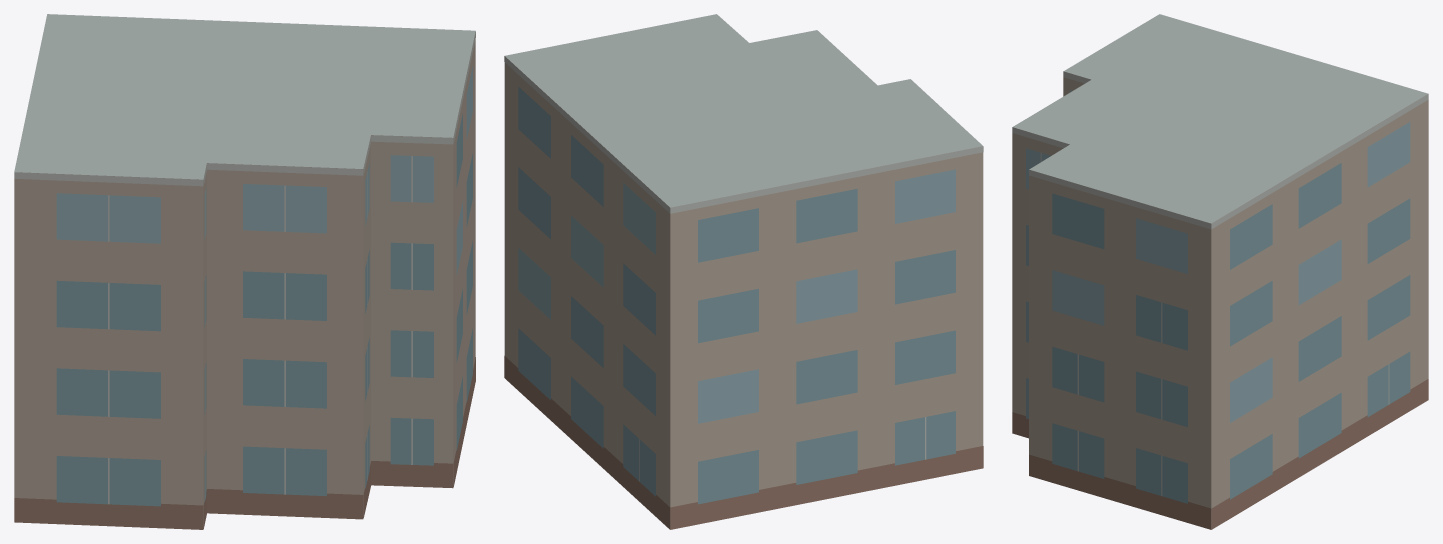
The model's file is survey-upis-32672733.glb.
The picture shows the model from 3 angles, left to right: view 1: azimuth 30°, elevation 25°; view 2: azimuth 150°, elevation 25°; view 3: azimuth 270°, elevation 25°; orthographic projection. The views are drawn at different scales.
Visible parts, largest first — view 1: survey-upis-32672733.tmp; view 2: survey-upis-32672733.tmp; view 3: survey-upis-32672733.tmp.
Boxes of the visible parts, x1,y1,x2,y2 form: survey-upis-32672733.tmp: (14, 14, 475, 529); survey-upis-32672733.tmp: (504, 14, 983, 529); survey-upis-32672733.tmp: (1012, 14, 1428, 529).
Bounding box in the file's own units: 18.84 × 12.83 × 15.81.
